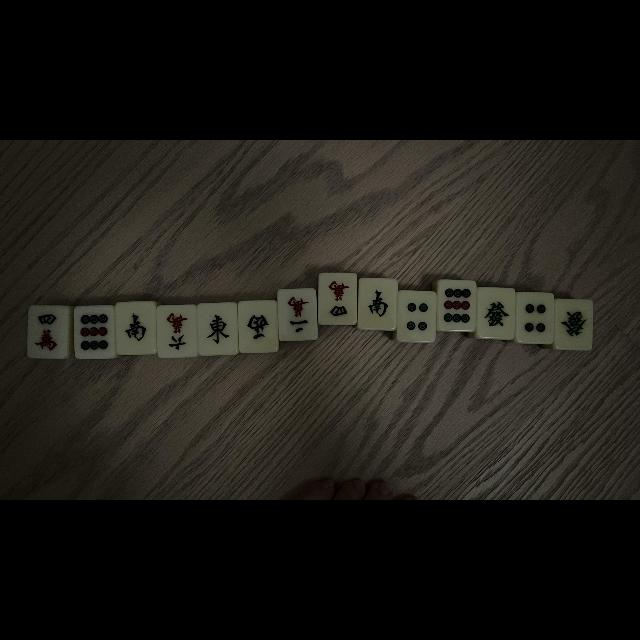c2: (280, 290, 316, 340)
c4: (28, 306, 66, 358), (320, 274, 356, 322)
c6: (158, 306, 196, 358)
d4: (398, 291, 434, 341), (517, 293, 553, 343)
d9: (74, 307, 114, 357), (439, 280, 475, 330)
dg: (478, 288, 514, 338), (556, 300, 592, 350)
we: (199, 304, 237, 354)
ws: (116, 303, 156, 353), (360, 279, 394, 329)
ww: (239, 301, 277, 351)
